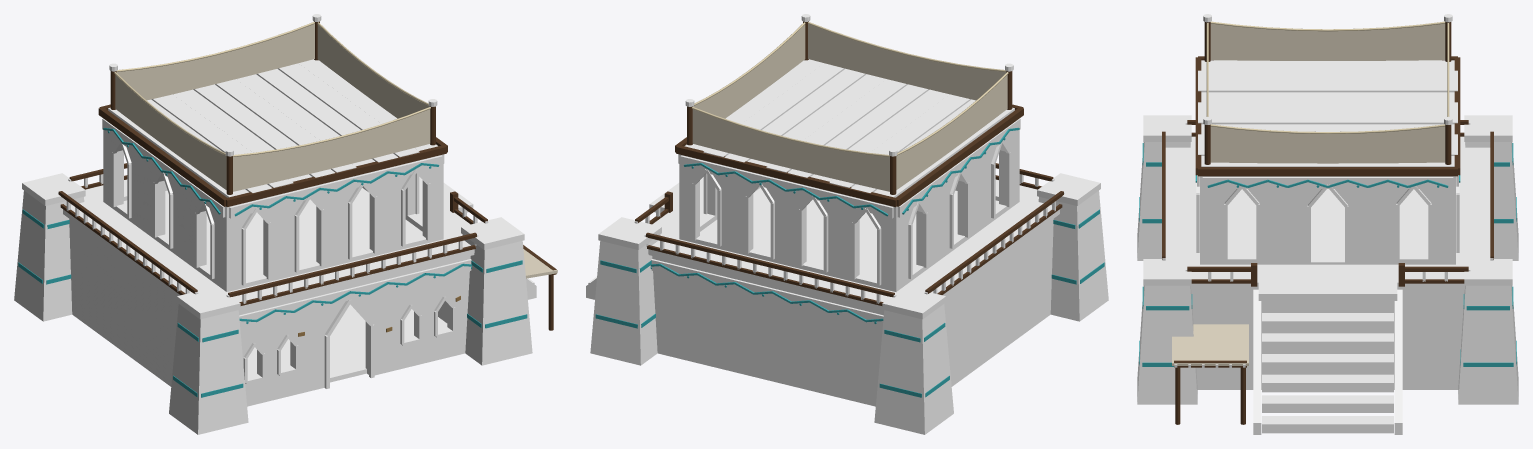
Rendered from DesertCaravanserai.glb.
The picture shows the model from 3 angles, left to right: view 1: azimuth 30°, elevation 25°; view 2: azimuth 150°, elevation 25°; view 3: azimuth 270°, elevation 25°; orthographic projection. The views are drawn at different scales.
Parts seen in each view (by area): view 1: Lower Front Wall, Terrace Slab, Upper Front Arcade Wall, Lower Left Wall, Corner Tower -1 -1, Upper Left Arcade Wall, Corner Tower 1 -1, Roof Fabric Panel 1, Roof Fabric Panel 3, Corner Tower -1 1, Roof Fabric Panel 4, Lower Interior Floor (+25 smaller); view 2: Lower Back Wall, Terrace Slab, Upper Back Arcade Wall, Lower Left Wall, Corner Tower -1 1, Upper Left Arcade Wall, Corner Tower 1 1, Roof Fabric Panel 3, Roof Fabric Panel 1, Corner Tower -1 -1, Roof Fabric Panel 4, Roof Fabric Panel 2 (+25 smaller); view 3: Terrace Slab, Upper Right Arcade Wall, Lower Right Wall, Roof Fabric Panel 4, Roof Fabric Panel 2, Corner Tower 1 1, Corner Tower 1 -1, Roof Plank 3, Roof Plank 6, Stair Landing, Roof Plank 5, Roof Plank 2 (+30 smaller).
Boxes of the visible parts, <box> form: Lower Front Wall: <box>239,256,470,406</box>; Terrace Slab: <box>63,179,474,312</box>; Upper Front Arcade Wall: <box>222,154,443,291</box>; Lower Left Wall: <box>69,219,178,386</box>; Corner Tower -1 -1: <box>169,304,248,434</box>; Upper Left Arcade Wall: <box>103,130,234,291</box>; Corner Tower 1 -1: <box>462,235,532,365</box>; Roof Fabric Panel 1: <box>233,109,430,191</box>; Roof Fabric Panel 3: <box>116,24,314,100</box>; Corner Tower -1 1: <box>14,191,84,321</box>; Roof Fabric Panel 4: <box>115,75,226,189</box>; Lower Interior Floor: <box>247,304,447,382</box>; Lower Back Wall: <box>652,256,883,406</box>; Terrace Slab: <box>648,179,1059,312</box>; Upper Back Arcade Wall: <box>679,154,900,291</box>; Lower Left Wall: <box>944,219,1053,386</box>; Corner Tower -1 1: <box>874,304,953,434</box>; Upper Left Arcade Wall: <box>889,130,1019,291</box>; Corner Tower 1 1: <box>590,234,660,365</box>; Roof Fabric Panel 3: <box>692,109,889,191</box>; Roof Fabric Panel 1: <box>808,24,1006,100</box>; Corner Tower -1 -1: <box>1038,191,1108,321</box>; Roof Fabric Panel 4: <box>896,75,1007,189</box>; Roof Fabric Panel 2: <box>693,24,805,118</box>; Terrace Slab: <box>1165,136,1490,289</box>; Upper Right Arcade Wall: <box>1200,176,1455,264</box>; Lower Right Wall: <box>1191,289,1464,389</box>; Roof Fabric Panel 4: <box>1210,23,1445,60</box>; Roof Fabric Panel 2: <box>1210,126,1445,163</box>; Corner Tower 1 1: <box>1458,285,1518,404</box>; Corner Tower 1 -1: <box>1137,285,1197,404</box>; Roof Plank 3: <box>1198,80,1457,92</box>; Roof Plank 6: <box>1198,112,1457,124</box>; Stair Landing: <box>1258,278,1397,300</box>; Roof Plank 5: <box>1198,102,1457,112</box>; Roof Plank 2: <box>1198,70,1457,80</box>.
Size of the model in its own units: 14.92 by 8.76 by 11.98.
